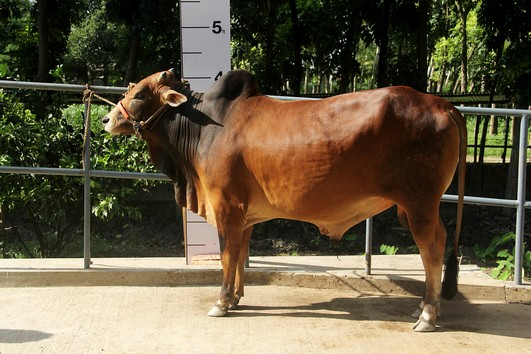cow: (94, 58, 473, 335)
